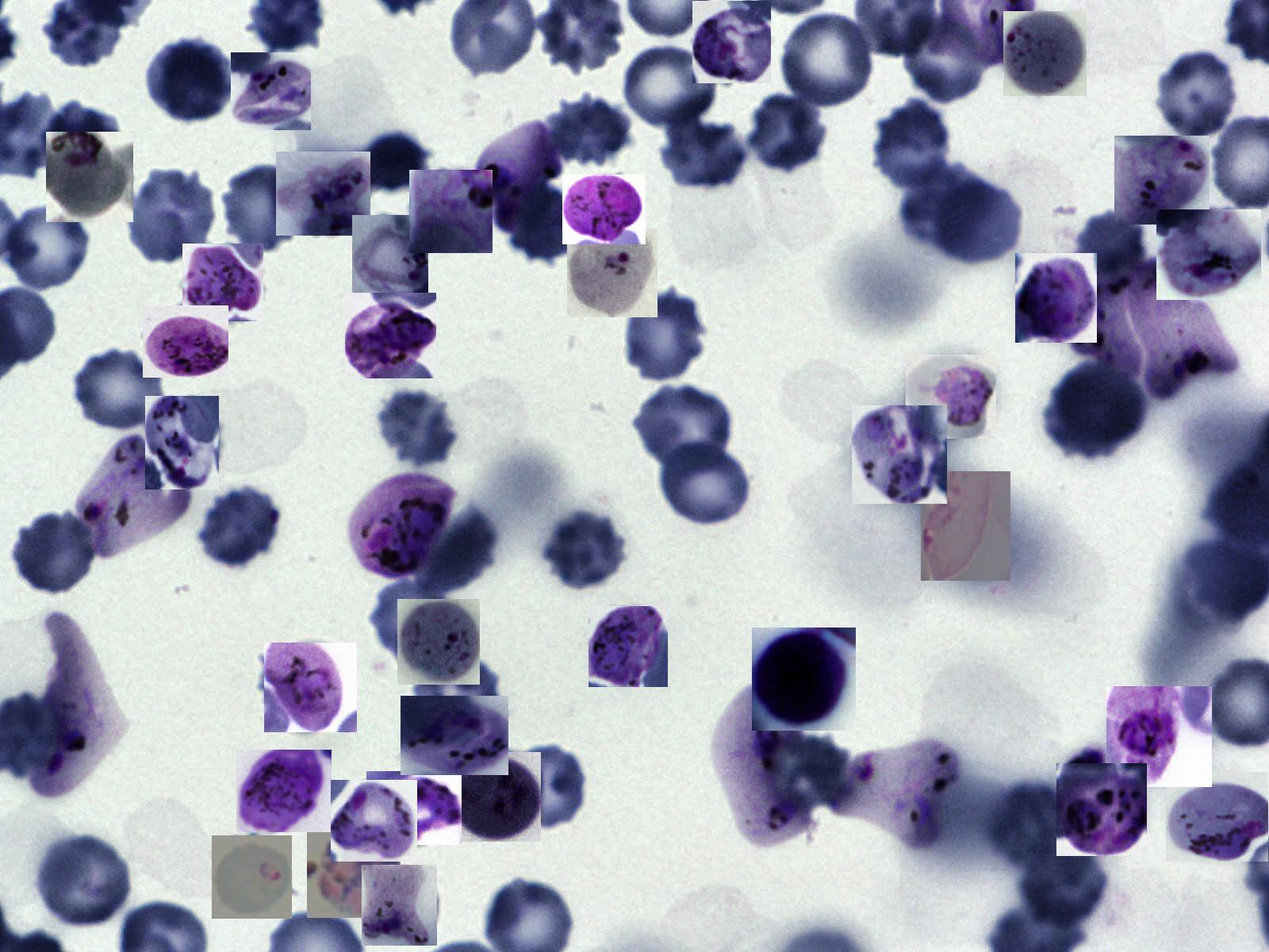Infected: (31, 612, 124, 802), (1121, 259, 1242, 401), (711, 683, 812, 849), (834, 737, 961, 849), (77, 439, 190, 559), (347, 473, 456, 582), (752, 628, 856, 731), (1106, 686, 1212, 787), (921, 471, 1010, 581), (1156, 209, 1261, 300), (852, 405, 947, 504), (478, 117, 561, 230), (1166, 772, 1268, 862), (1068, 266, 1143, 386), (307, 823, 401, 918), (1114, 136, 1210, 225), (1056, 763, 1147, 856), (401, 696, 508, 775), (264, 643, 357, 732), (450, 752, 541, 842), (567, 228, 658, 317), (276, 152, 370, 236), (236, 750, 332, 832), (47, 132, 133, 222), (345, 293, 436, 378), (906, 355, 996, 439), (1015, 254, 1097, 344), (1003, 11, 1087, 96), (397, 599, 480, 685), (366, 771, 462, 845), (331, 780, 417, 862), (409, 170, 493, 253), (146, 396, 219, 489), (212, 835, 292, 919), (588, 606, 668, 687), (692, 1, 771, 83), (231, 52, 311, 130), (182, 244, 263, 321), (143, 305, 228, 378), (362, 865, 437, 946), (352, 215, 428, 294), (562, 175, 646, 244)
Uninfected: (774, 10, 880, 110), (1041, 362, 1145, 459), (32, 836, 134, 931), (631, 382, 735, 474), (929, 173, 1026, 271), (617, 40, 723, 129), (1015, 837, 1111, 932), (122, 169, 219, 263), (408, 652, 504, 745), (654, 440, 755, 528), (67, 346, 170, 432), (1151, 49, 1245, 143), (899, 11, 991, 105), (900, 158, 992, 251), (0, 202, 94, 293), (413, 501, 498, 599), (620, 292, 709, 383), (872, 101, 957, 194), (503, 743, 592, 830), (11, 512, 100, 596), (144, 40, 233, 124), (658, 116, 752, 193), (221, 164, 302, 253), (370, 577, 453, 663), (374, 388, 460, 468), (745, 94, 830, 174), (550, 92, 634, 169), (43, 105, 124, 181), (201, 487, 275, 570), (769, 734, 852, 805), (549, 512, 626, 588), (508, 180, 579, 261), (351, 131, 430, 194), (1075, 213, 1141, 283)
